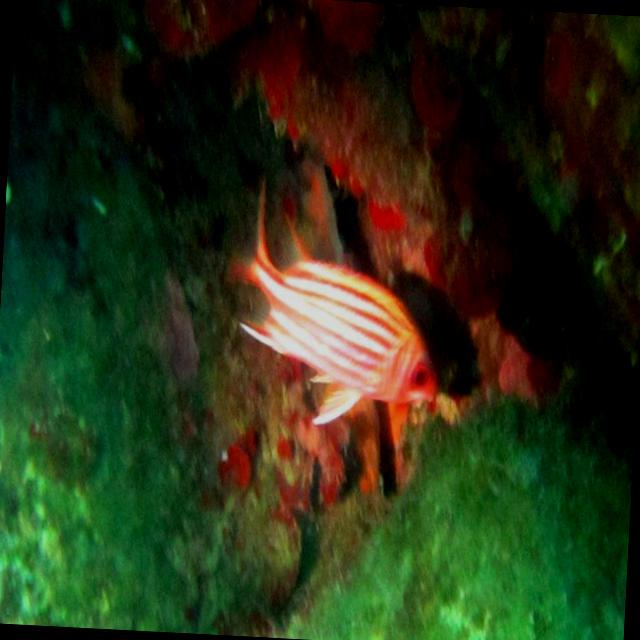Asker Baligi: (211, 158, 459, 438)
